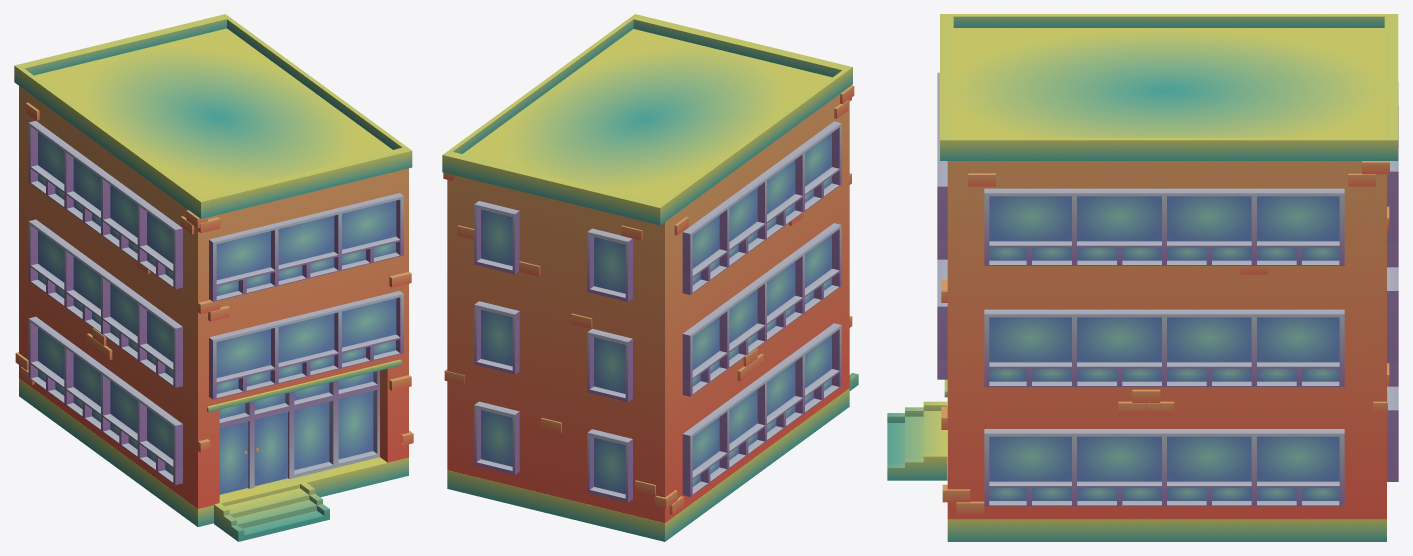
The model's file is SM_3F_L_Windowed_03.fbx.
3 views of the same model, side by side, from view 1: azimuth 30°, elevation 25°; view 2: azimuth 150°, elevation 25°; view 3: azimuth 270°, elevation 25° (orthographic). The views are drawn at different scales.
Parts seen in each view (by area): view 1: SM_3F_L_Windowed_03; view 2: SM_3F_L_Windowed_03; view 3: SM_3F_L_Windowed_03.
Part boxes in pixels (x1,y1,x2,y2): SM_3F_L_Windowed_03: [14, 14, 413, 541]; SM_3F_L_Windowed_03: [442, 14, 858, 541]; SM_3F_L_Windowed_03: [887, 14, 1398, 541].
Size of the model in its own units: 7.96 by 12.7 by 11.02.
